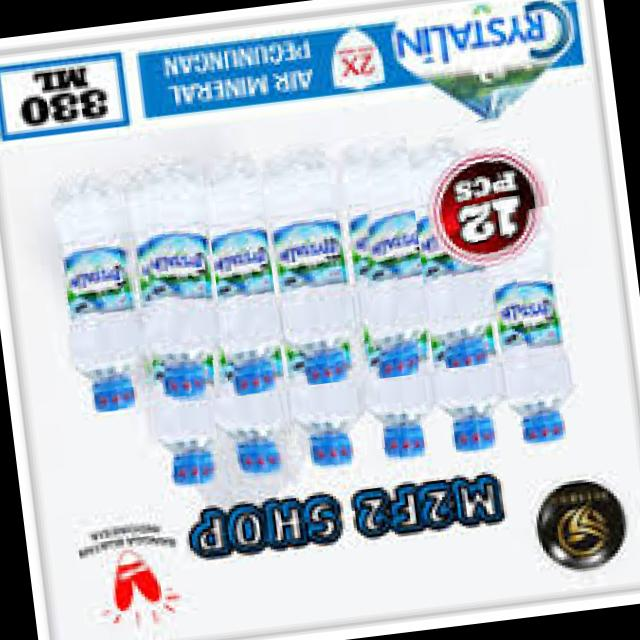plastic bottle: (396, 114, 527, 370), (38, 168, 150, 416), (124, 146, 228, 404), (482, 201, 594, 440), (184, 142, 282, 397), (336, 124, 433, 378), (256, 136, 352, 386), (278, 292, 368, 478), (134, 328, 222, 498), (416, 266, 495, 448), (346, 284, 424, 466), (201, 344, 298, 487)
